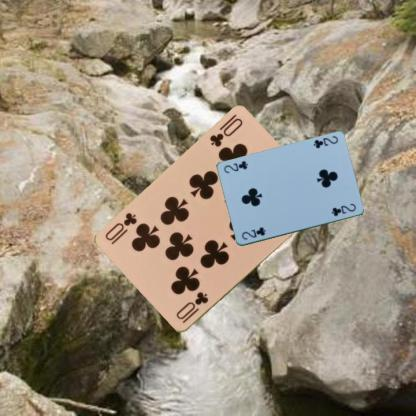10c: (173, 289, 210, 325), (207, 116, 244, 149)
2c: (239, 225, 267, 241), (311, 134, 339, 150)
